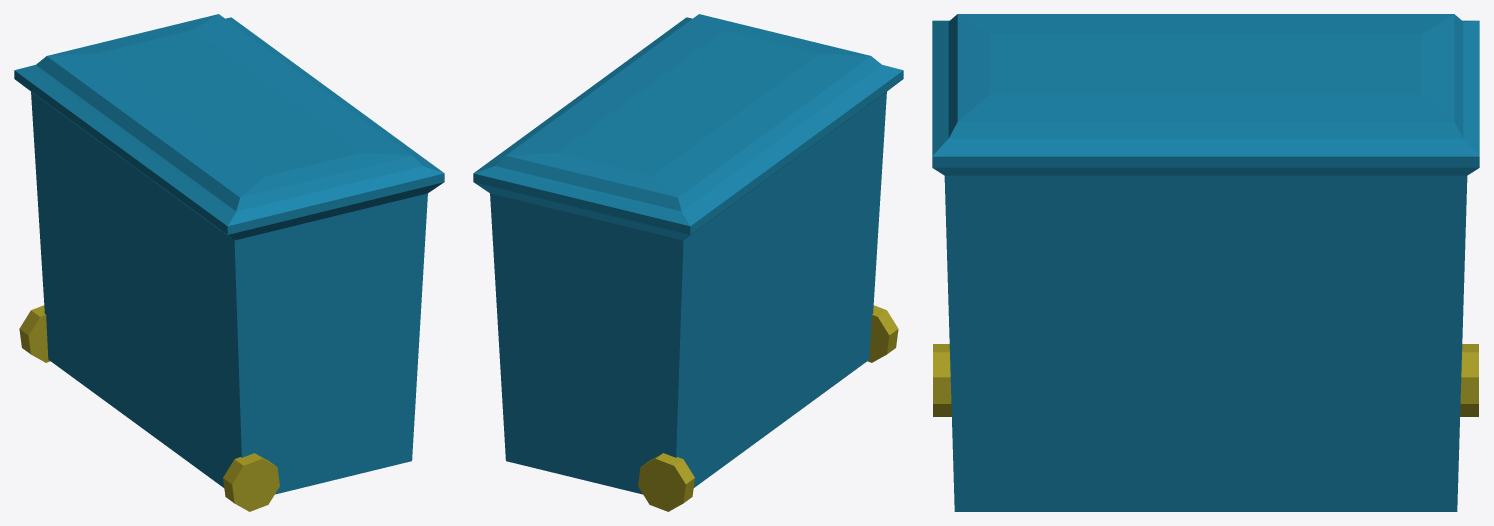
The model's file is Muelltonne_Lang.fbx.
3 views of the same model, side by side, from view 1: azimuth 30°, elevation 25°; view 2: azimuth 150°, elevation 25°; view 3: azimuth 270°, elevation 25° (orthographic). The views are drawn at different scales.
Parts seen in each view (by area): view 1: Muelltonne_Lang1; view 2: Muelltonne_Lang1; view 3: Muelltonne_Lang1.
Boxes of the visible parts, bbox=[...] form: Muelltonne_Lang1: bbox=[14, 14, 444, 511]; Muelltonne_Lang1: bbox=[473, 14, 903, 511]; Muelltonne_Lang1: bbox=[932, 14, 1479, 511].
Size of the model in its own units: 75.59 by 103 by 129.
